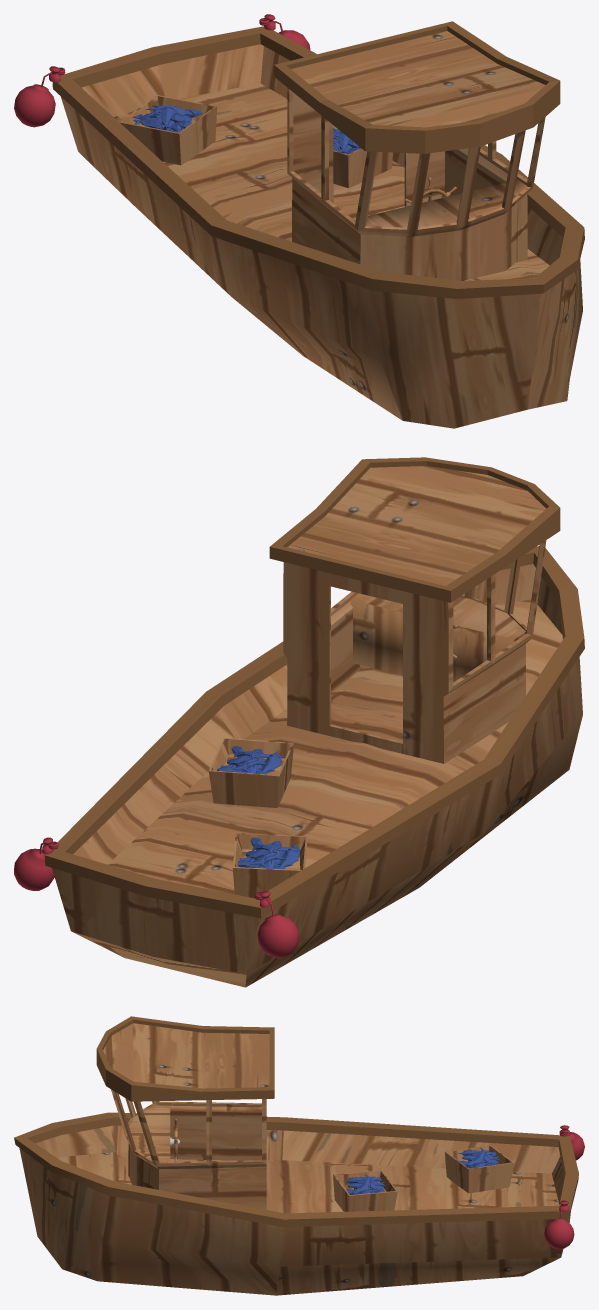
The model's file is Player Boat.fbx.
The picture shows the model from 3 angles, top to bottom: view 1: azimuth 30°, elevation 25°; view 2: azimuth 150°, elevation 25°; view 3: azimuth 270°, elevation 25°; orthographic projection. The views are drawn at different scales.
Parts seen in each view (by area): view 1: Cube.037, polySurface186.006, Cube.036, polySurface186.009, pasted__pCube2.002, polySurface186.008, polySurface186.007, pasted__pCube2.003, pasted__SM_Prop_Fish_Pile_23.002; view 2: Cube.037, polySurface186.006, Cube.036, polySurface186.009, polySurface186.008, pasted__pCube2.003, polySurface186.007, pasted__pCube2.002, pasted__SM_Prop_Fish_Pile_23.002, pasted__SM_Prop_Fish_Pile_23.003; view 3: Cube.037, polySurface186.006, Cube.036, polySurface186.009, pasted__pCube2.002, polySurface186.008, pasted__pCube2.003, polySurface186.007, pasted__SM_Prop_Fish_Pile_23.003, pasted__SM_Prop_Fish_Pile_23.002.
Boxes of the visible parts, <box> form: Cube.037: <box>60,44,582,428</box>; polySurface186.006: <box>287,31,545,280</box>; Cube.036: <box>52,26,584,298</box>; polySurface186.009: <box>274,21,560,153</box>; pasted__pCube2.002: <box>119,95,217,165</box>; polySurface186.008: <box>366,177,526,227</box>; polySurface186.007: <box>14,14,310,127</box>; pasted__pCube2.003: <box>333,125,393,188</box>; pasted__SM_Prop_Fish_Pile_23.002: <box>132,105,202,133</box>; Cube.037: <box>52,564,582,987</box>; polySurface186.006: <box>283,466,546,763</box>; Cube.036: <box>44,546,584,918</box>; polySurface186.009: <box>269,457,560,602</box>; polySurface186.008: <box>350,593,525,682</box>; pasted__pCube2.003: <box>208,737,293,807</box>; polySurface186.007: <box>14,837,299,957</box>; pasted__pCube2.002: <box>232,833,307,898</box>; pasted__SM_Prop_Fish_Pile_23.002: <box>233,837,302,876</box>; pasted__SM_Prop_Fish_Pile_23.003: <box>217,746,284,774</box>; Cube.037: <box>19,1125,570,1295</box>; polySurface186.006: <box>103,1023,269,1209</box>; Cube.036: <box>14,1112,578,1227</box>; polySurface186.009: <box>96,1016,274,1101</box>; pasted__pCube2.002: <box>445,1145,513,1193</box>; polySurface186.008: <box>129,1105,179,1161</box>; pasted__pCube2.003: <box>333,1170,397,1211</box>; polySurface186.007: <box>544,1125,584,1249</box>; pasted__SM_Prop_Fish_Pile_23.003: <box>343,1174,385,1200</box>; pasted__SM_Prop_Fish_Pile_23.002: <box>457,1147,500,1173</box>.
Bounding box in the file's own units: 401 × 410 × 946.
